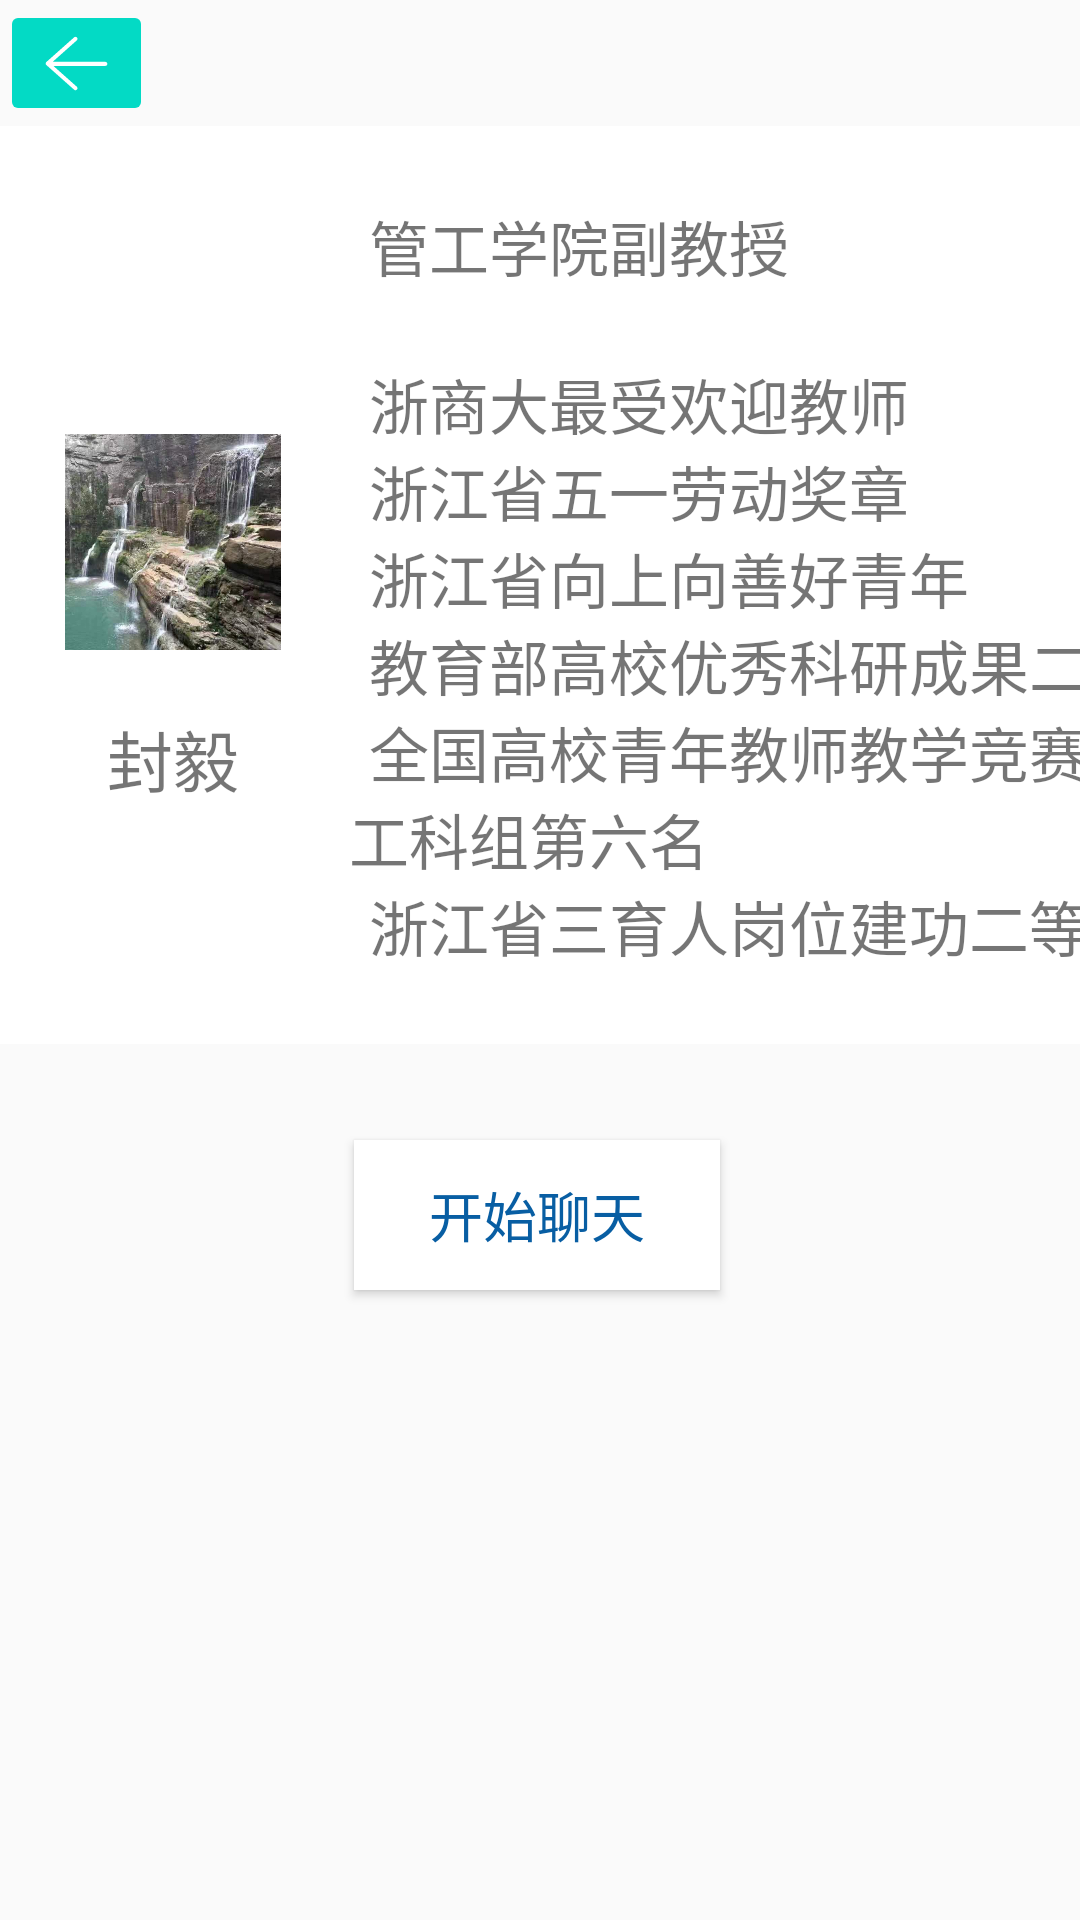

Icons on this 1080x1920 Android screen, each with the point to tap as (x,y):
return: (76,63)
